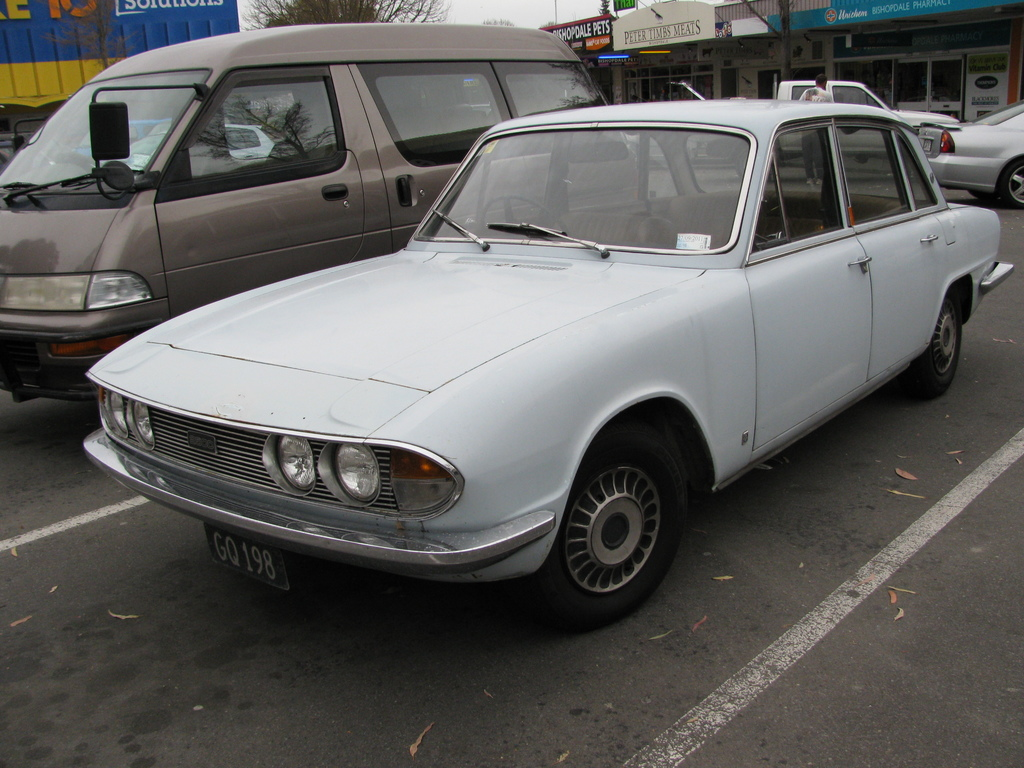Car: (77, 92, 1019, 636), (916, 103, 1023, 208)
